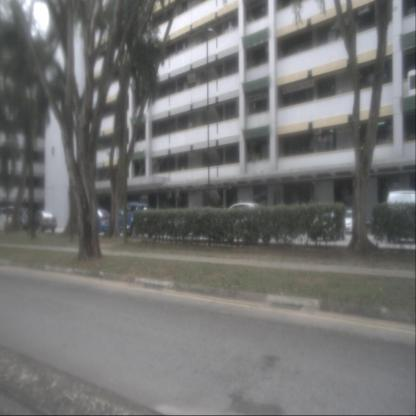vehicle-car: (114, 203, 155, 238), (83, 209, 111, 235), (32, 210, 57, 233), (12, 208, 36, 231), (341, 209, 357, 234)
